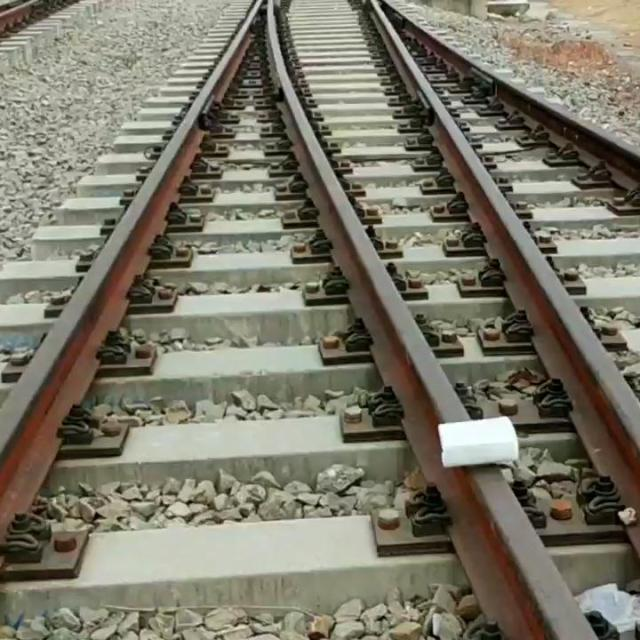rail: (265, 1, 597, 640), (1, 1, 262, 537), (373, 1, 640, 512), (383, 1, 640, 189)
